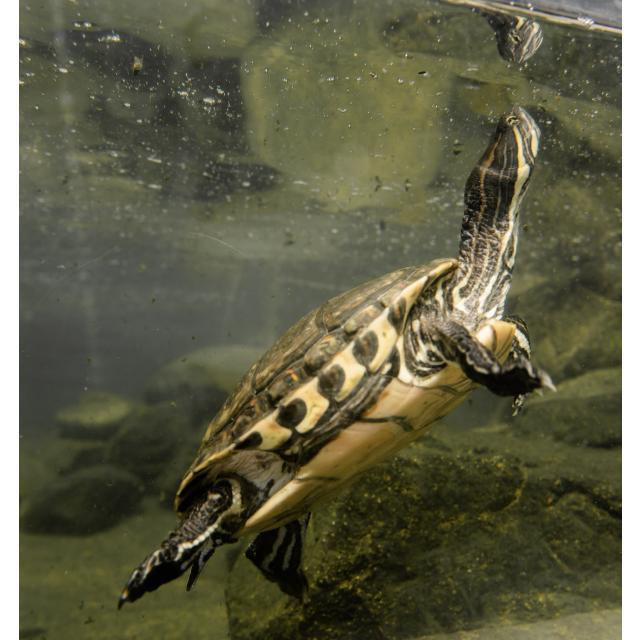turtle: (117, 105, 558, 611)
